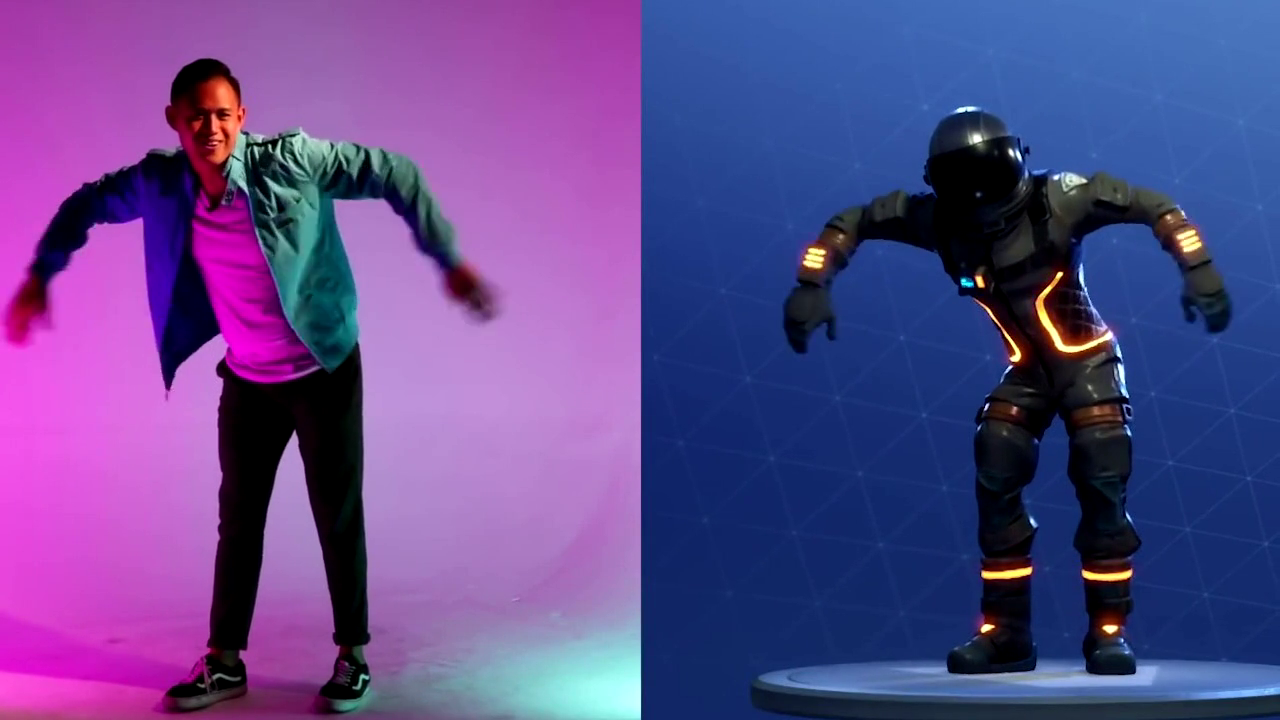Head: (153, 59, 266, 169)
Hip: (186, 341, 400, 439)
LeftAnkle: (302, 617, 390, 717)
LeftElbow: (371, 135, 451, 232)
LeftKnee: (295, 468, 385, 550)
LeftShoulder: (271, 115, 365, 215)
LeftWrist: (431, 244, 534, 347)
RightAnkle: (159, 626, 274, 711)
RightElbow: (50, 185, 127, 254)
RightKnee: (197, 492, 284, 571)
RightShoulder: (124, 130, 199, 207)
RightWrist: (3, 256, 74, 351)
Torso: (162, 149, 366, 378)
